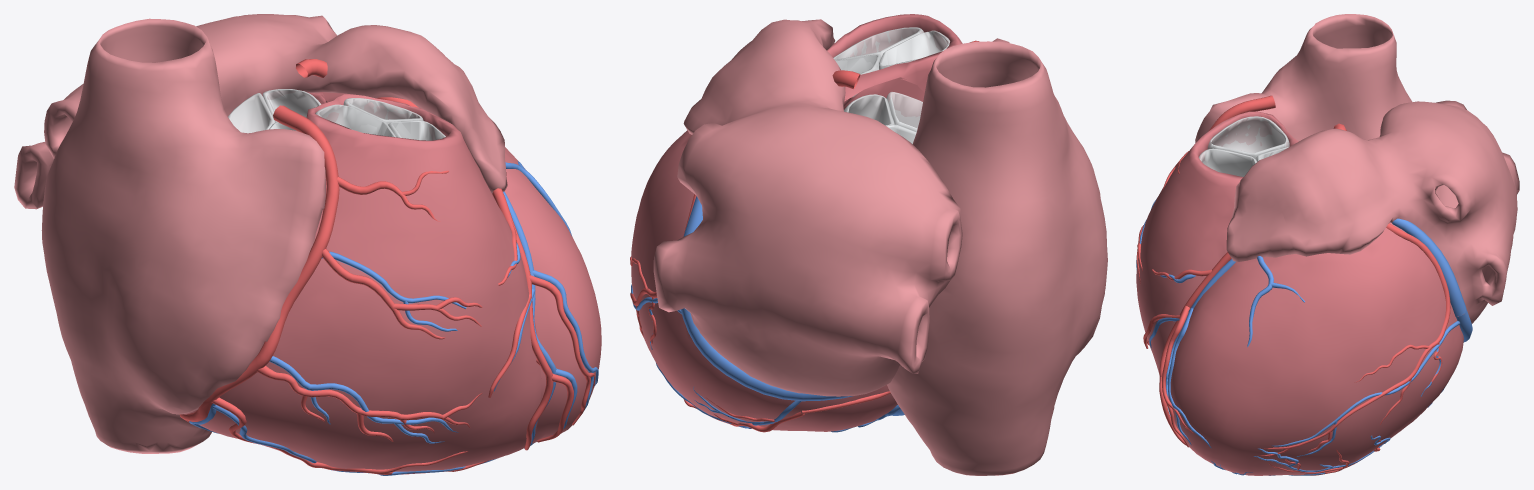
File: heart_coronary.glb
3 renders of one model, left to right at view 1: azimuth 30°, elevation 25°; view 2: azimuth 150°, elevation 25°; view 3: azimuth 270°, elevation 25°, orthographic. The views are drawn at different scales.
Visible parts, largest first — view 1: Heart_Atrium_Right, Heart_Ventricle_Right, Heart_Atrium_Left, Heart_Coronary_Arteries, Heart_Ventricle_Left, Heart_Cardiac_Veins, Heart_Valve_Pulmonary, Heart_Valve_Aortic; view 2: Heart_Atrium_Left, Heart_Atrium_Right, Heart_Ventricle_Left, Heart_Ventricle_Right, Heart_Cardiac_Veins, Heart_Valve_Pulmonary, Heart_Valve_Aortic, Heart_Coronary_Arteries; view 3: Heart_Ventricle_Left, Heart_Atrium_Left, Heart_Atrium_Right, Heart_Ventricle_Right, Heart_Coronary_Arteries, Heart_Cardiac_Veins, Heart_Valve_Pulmonary.
Boxes of the visible parts, x1,y1,x2,y2 form: Heart_Atrium_Right: [41, 18, 325, 453]; Heart_Ventricle_Right: [183, 92, 541, 471]; Heart_Atrium_Left: [14, 14, 507, 209]; Heart_Coronary_Arteries: [179, 59, 595, 474]; Heart_Ventricle_Left: [308, 92, 601, 443]; Heart_Cardiac_Veins: [189, 161, 598, 475]; Heart_Valve_Pulmonary: [315, 98, 445, 140]; Heart_Valve_Aortic: [228, 89, 321, 133]; Heart_Atrium_Left: [653, 19, 962, 396]; Heart_Atrium_Right: [887, 38, 1107, 475]; Heart_Ventricle_Left: [631, 77, 924, 431]; Heart_Ventricle_Right: [827, 14, 962, 101]; Heart_Cardiac_Veins: [631, 196, 904, 432]; Heart_Valve_Pulmonary: [833, 27, 949, 97]; Heart_Valve_Aortic: [844, 92, 922, 143]; Heart_Coronary_Arteries: [630, 40, 979, 432]; Heart_Ventricle_Left: [1168, 222, 1463, 475]; Heart_Atrium_Left: [1226, 100, 1519, 323]; Heart_Atrium_Right: [1195, 14, 1412, 142]; Heart_Ventricle_Right: [1136, 111, 1298, 373]; Heart_Coronary_Arteries: [1136, 95, 1450, 475]; Heart_Cardiac_Veins: [1136, 199, 1472, 475]; Heart_Valve_Pulmonary: [1198, 116, 1289, 176].
Bounding box in the file's own units: 0.1192 × 0.1089 × 0.113.
